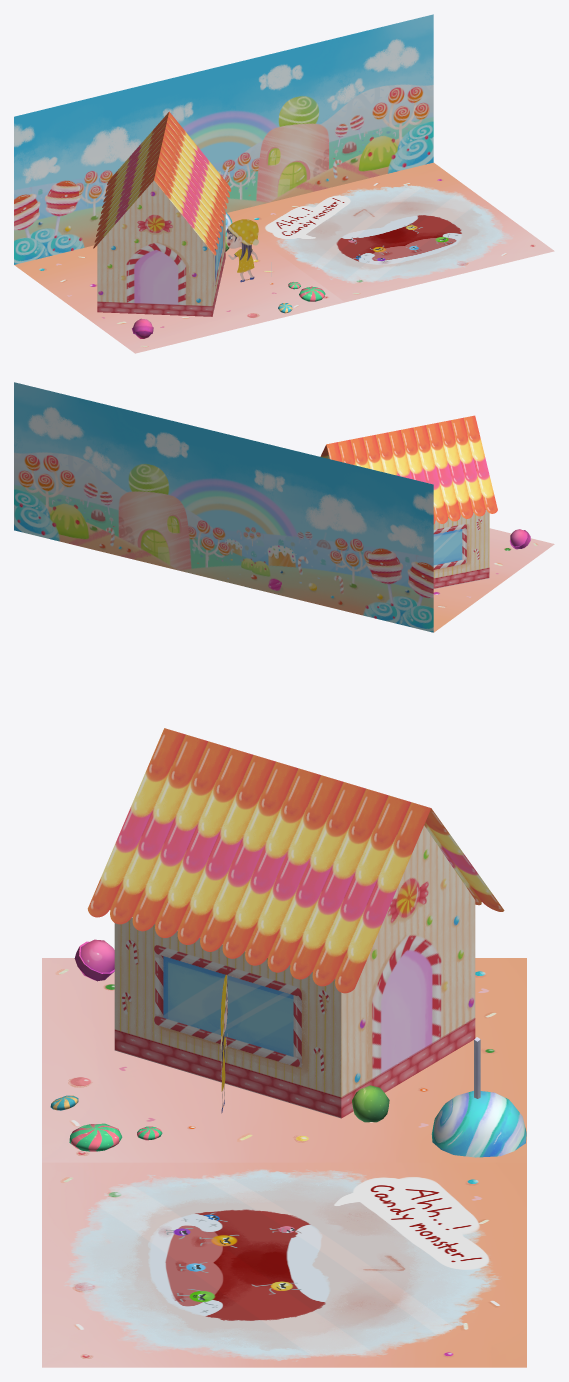
3 views of the same model, one above another, from view 1: azimuth 30°, elevation 25°; view 2: azimuth 150°, elevation 25°; view 3: azimuth 270°, elevation 25° (orthographic). The views are drawn at different scales.
Parts seen in each view (by area): view 1: wallCandyLand_mesh, floorCandyLand2_mesh, candyHome_mesh, floorOpenmouth_mesh, openMouthKid_mesh, candies_mesh; view 2: wallCandyLand_mesh, candyHome_mesh, floorOpenmouth_mesh, candies_mesh; view 3: candyHome_mesh, floorCandyLand2_mesh, floorOpenmouth_mesh, candies_mesh.
Boxes of the visible parts, x1=… form: wallCandyLand_mesh: x1=14, y1=14, x2=433, y2=264; floorCandyLand2_mesh: x1=227, y1=162, x2=554, y2=302; candyHome_mesh: x1=93, y1=111, x2=231, y2=316; floorOpenmouth_mesh: x1=14, y1=219, x2=344, y2=353; openMouthKid_mesh: x1=226, y1=219, x2=271, y2=282; candies_mesh: x1=132, y1=166, x2=325, y2=338; wallCandyLand_mesh: x1=14, y1=382, x2=433, y2=632; candyHome_mesh: x1=320, y1=415, x2=497, y2=588; floorOpenmouth_mesh: x1=433, y1=528, x2=554, y2=632; candies_mesh: x1=251, y1=529, x2=530, y2=588; candyHome_mesh: x1=87, y1=728, x2=504, y2=1118; floorCandyLand2_mesh: x1=42, y1=1162, x2=526, y2=1367; floorOpenmouth_mesh: x1=42, y1=958, x2=526, y2=1162; candies_mesh: x1=50, y1=939, x2=526, y2=1157.
Size of the model in its own units: 2 by 0.6811 by 1.
